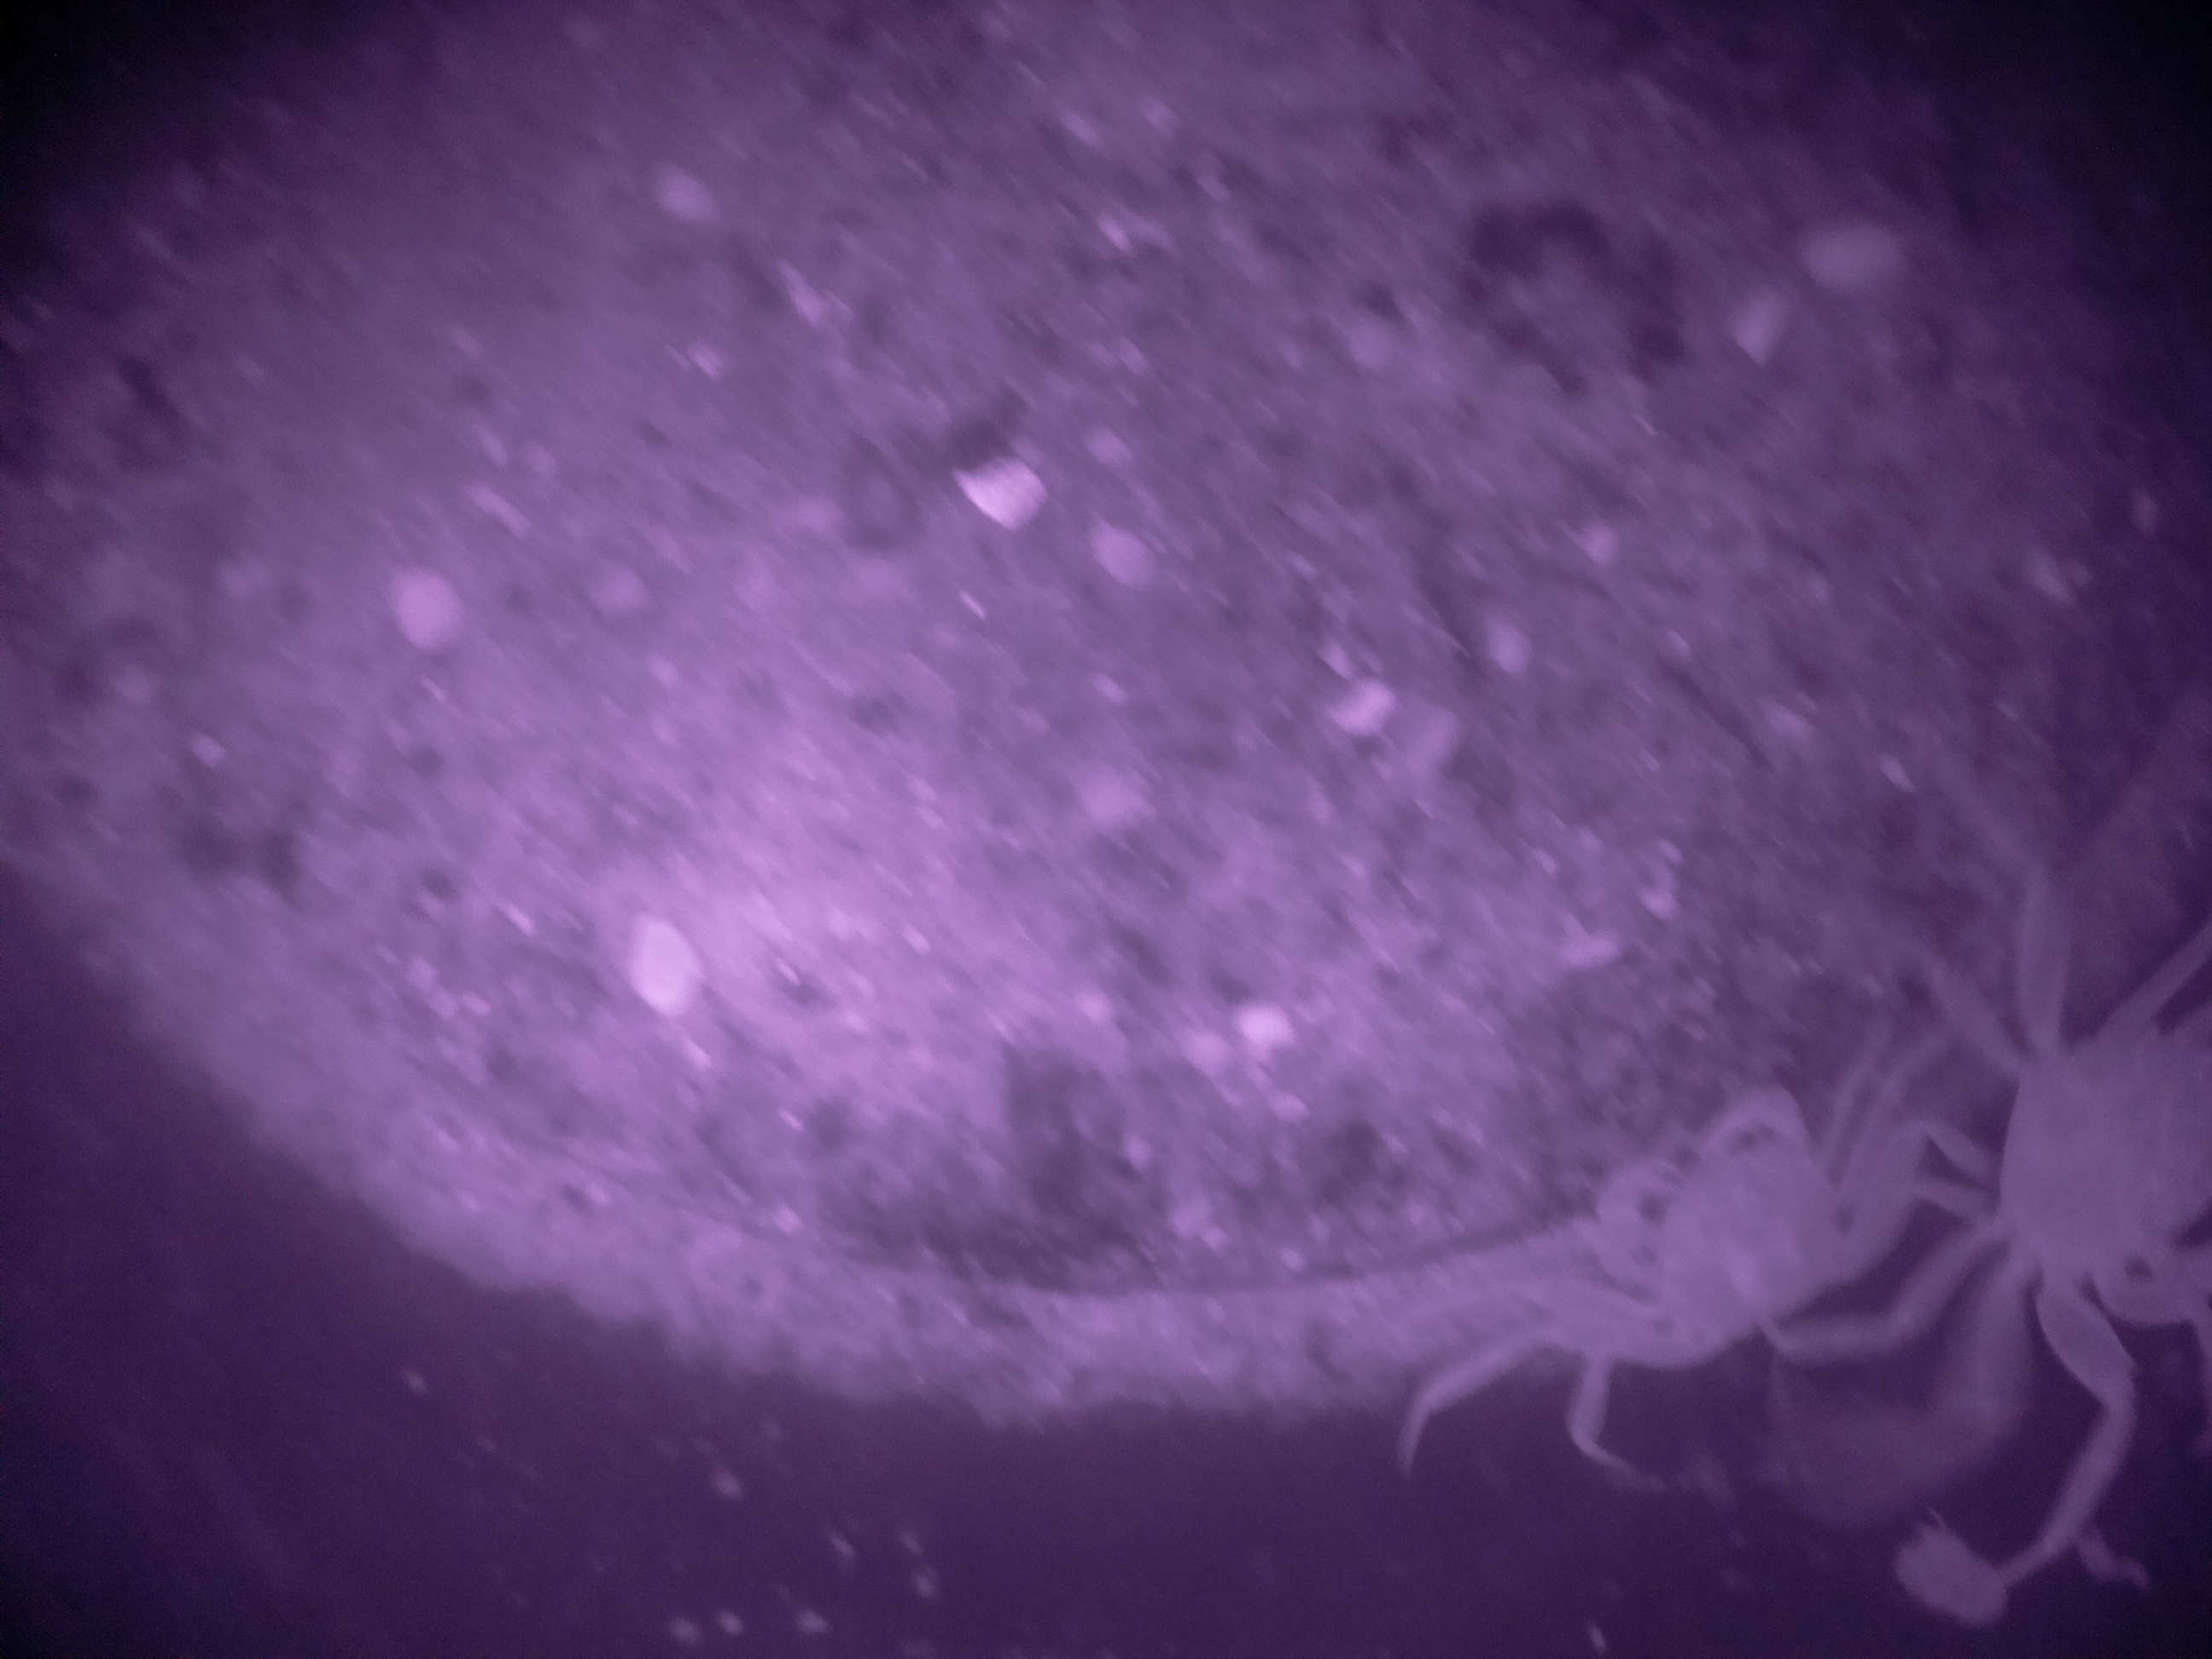Crab: (1512, 1037, 1911, 1457)
